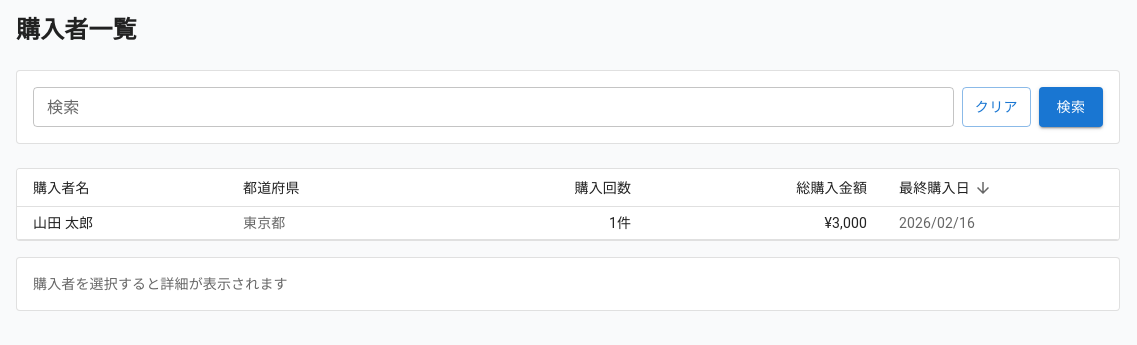
Test case: BuyersPage (UC-007) › 検索結果が0件の場合にメッセージを表示する
Expected: the text "山田 太郎" is shown, [33,215,93,231]
Type "該当なし" into the field labelled "検索" at [493, 107], box [33,87,954,127]
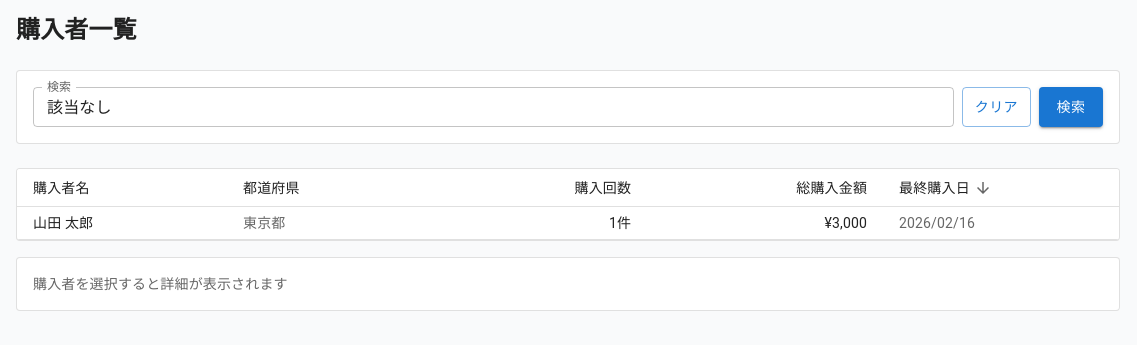
Click the button "検索" at [1071, 107], box [1039,87,1103,127]
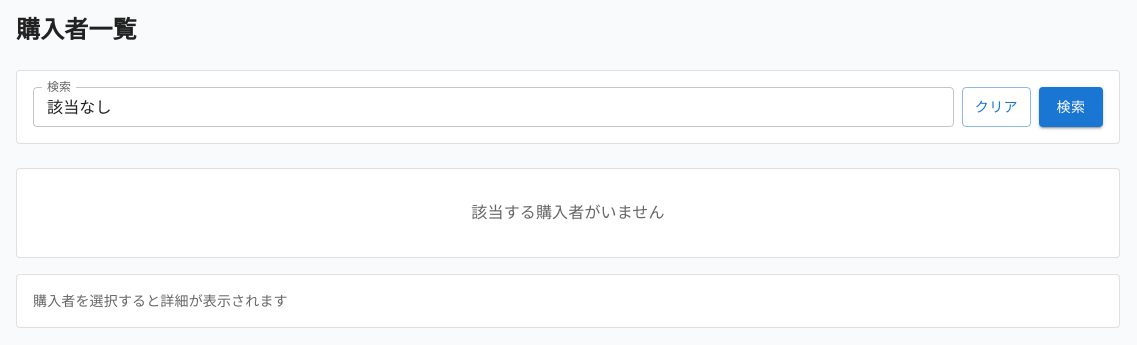
Now the text "該当する購入者がいません" is shown, box [471,203,665,222]
